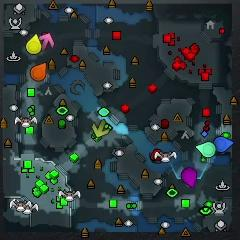p1: (213, 137, 233, 152)
p2: (196, 142, 216, 157)
p3: (182, 167, 197, 188)
p4: (26, 34, 42, 55)
p5: (31, 63, 47, 80)
x1: (39, 34, 54, 51)
x2: (92, 120, 109, 136)
